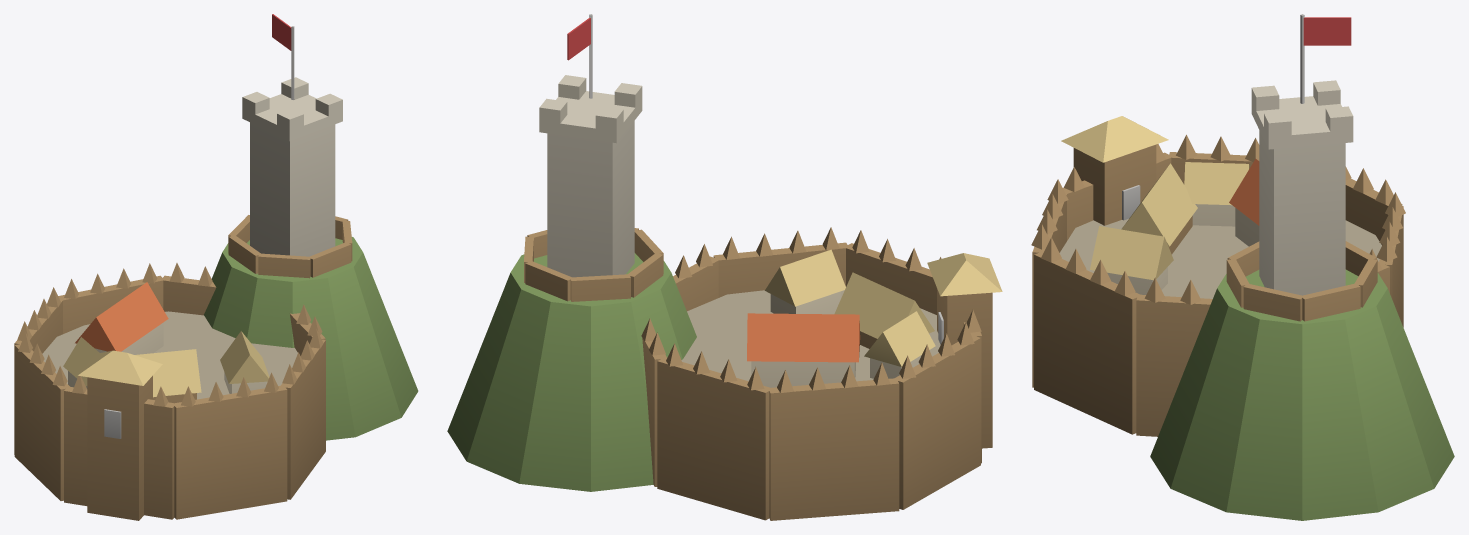
File: castle_west_a.glb
The picture shows the model from 3 angles, left to right: view 1: azimuth 30°, elevation 25°; view 2: azimuth 150°, elevation 25°; view 3: azimuth 270°, elevation 25°; orthographic projection. The views are drawn at different scales.
Parts seen in each view (by area): view 1: castle_west_a; view 2: castle_west_a; view 3: castle_west_a.
Boxes of the visible parts, box(x1,y1,x2,y2) form: castle_west_a: box(14, 14, 418, 520); castle_west_a: box(447, 14, 1002, 520); castle_west_a: box(1031, 14, 1454, 520).
Bounding box in the file's own units: 1.82 × 1.6 × 1.39.
